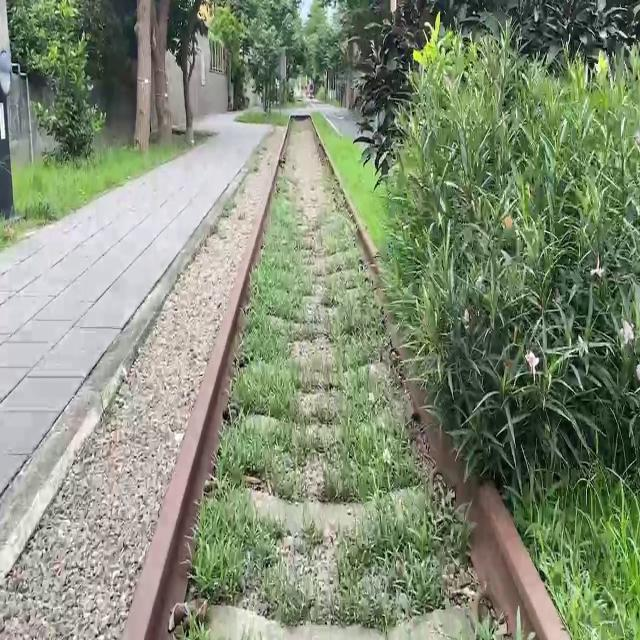rail-track: (190, 118, 479, 631)
